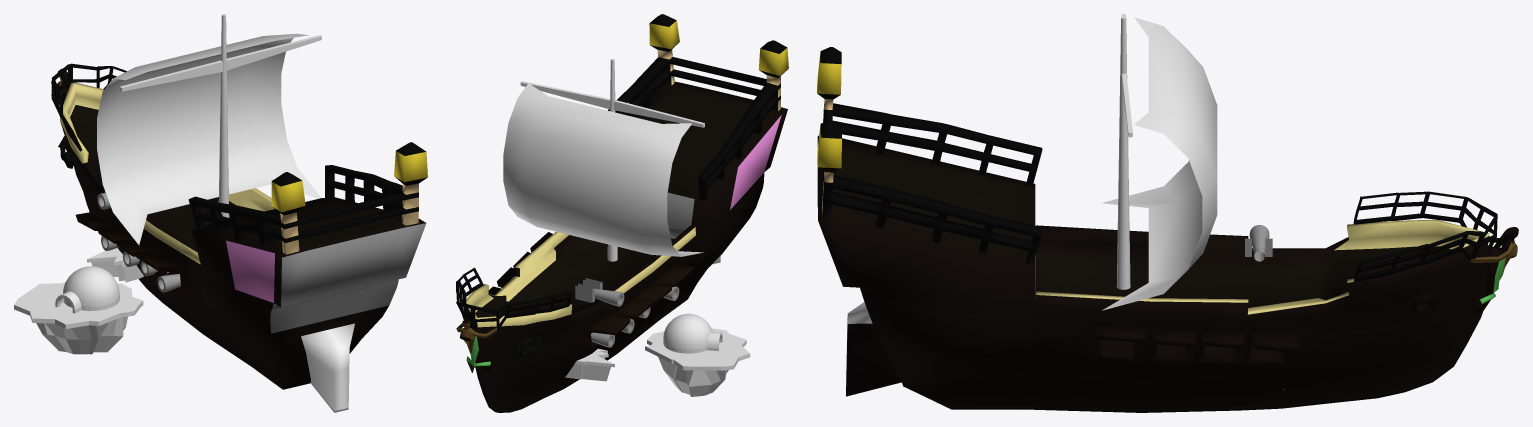
The model's file is båt.FBX.
The picture shows the model from 3 angles, left to right: view 1: azimuth 30°, elevation 25°; view 2: azimuth 150°, elevation 25°; view 3: azimuth 270°, elevation 25°; orthographic projection. The views are drawn at different scales.
Visible parts, largest first — view 1: Box002, Cylinder003, Cylinder002, Object001, Plane003, Sphere001, Plane001, snø vann; view 2: Box002, Cylinder003, Object001, Cylinder002, Sphere001, Plane003, kanon, Plane001, snø vann; view 3: Box002, Cylinder003, Cylinder002, kanon.
Boxes of the visible parts, x1,y1,x2,y2 form: Box002: (51, 63, 427, 412); Cylinder003: (97, 33, 321, 245); Cylinder002: (120, 14, 321, 217); Object001: (14, 282, 143, 328); Plane003: (36, 317, 127, 354); Sphere001: (63, 266, 119, 310); Plane001: (91, 260, 168, 282); snø vann: (87, 248, 125, 267); Box002: (456, 14, 788, 412); Cylinder003: (503, 83, 703, 256); Object001: (645, 328, 750, 370); Cylinder002: (520, 58, 704, 261); Sphere001: (663, 313, 712, 353); Plane003: (658, 357, 728, 396); kanon: (575, 278, 624, 306); Plane001: (565, 357, 610, 381); snø vann: (575, 348, 614, 367); Box002: (817, 47, 1518, 412); Cylinder003: (1101, 17, 1217, 310); Cylinder002: (1116, 14, 1132, 289); kanon: (1245, 225, 1272, 261).
Size of the model in its own units: 282 by 317 by 522.
